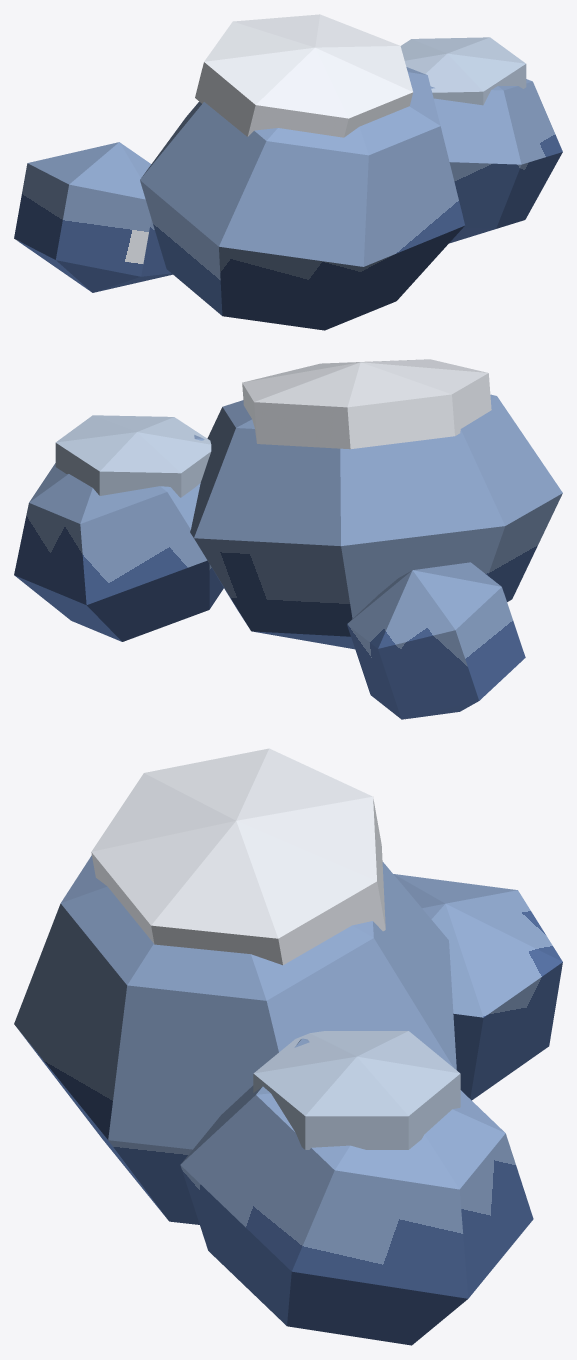
Rendered from rock.glb.
3 renders of one model, top to bottom at view 1: azimuth 30°, elevation 25°; view 2: azimuth 150°, elevation 25°; view 3: azimuth 270°, elevation 25°, orthographic. The views are drawn at different scales.
Visible parts, largest first — view 1: rock; view 2: rock; view 3: rock.
Part boxes in pixels (x1,y1,x2,y2): rock: (14,14,562,330); rock: (14,359,562,719); rock: (14,748,562,1345).
Bounding box in the file's own units: 2.12 × 1.13 × 1.47.
1 material, 1 textured.
